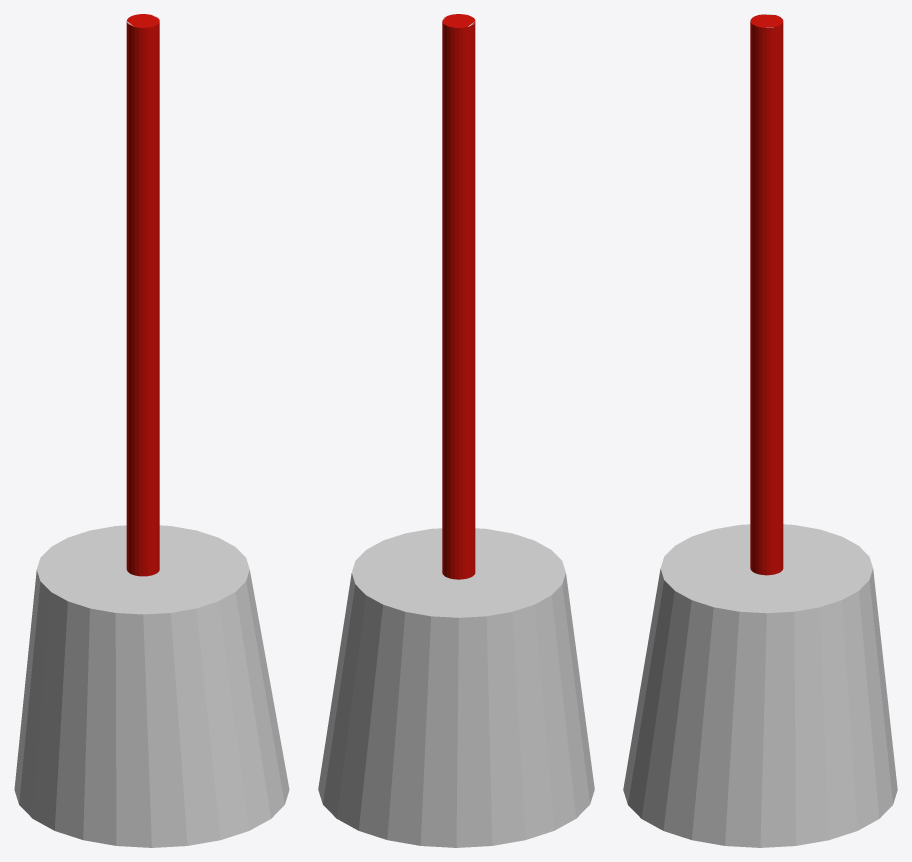
File: concrete stand3.fbx
3 views of the same model, side by side, from view 1: azimuth 30°, elevation 25°; view 2: azimuth 150°, elevation 25°; view 3: azimuth 270°, elevation 25° (orthographic).
Parts seen in each view (by area): view 1: Group#202-Entity885594; view 2: Group#202-Entity885594; view 3: Group#202-Entity885594.
Part boxes in pixels (left/top/right/bottom): Group#202-Entity885594: left=14, top=14, right=289, bottom=847; Group#202-Entity885594: left=318, top=14, right=594, bottom=847; Group#202-Entity885594: left=623, top=14, right=897, bottom=847.
Bounding box in the file's own units: 25 × 77 × 25.
